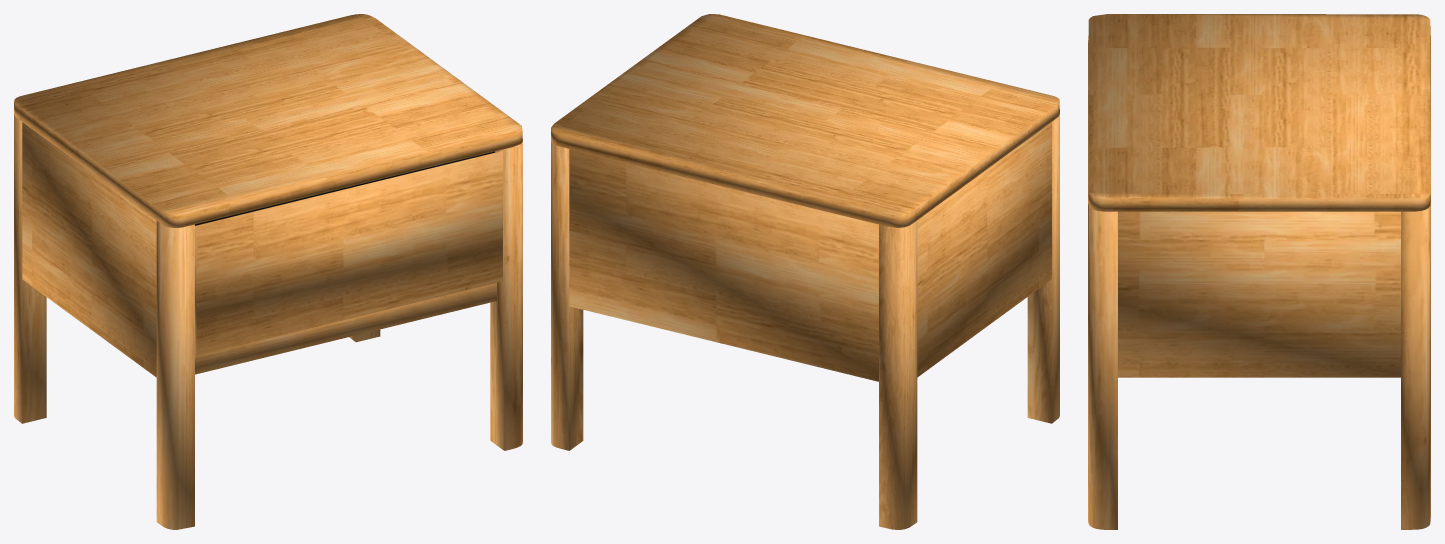
Rendered from abo-B07K7K7GTZ.glb.
The picture shows the model from 3 angles, left to right: view 1: azimuth 30°, elevation 25°; view 2: azimuth 150°, elevation 25°; view 3: azimuth 270°, elevation 25°; orthographic projection. The views are drawn at different scales.
Parts seen in each view (by area): view 1: B07K7K7GTZ; view 2: B07K7K7GTZ; view 3: B07K7K7GTZ.
Part boxes in pixels (box(x1,y1,x2,y2)): B07K7K7GTZ: box(14, 14, 522, 529); B07K7K7GTZ: box(551, 14, 1059, 529); B07K7K7GTZ: box(1088, 14, 1430, 529).
Size of the model in its own units: 0.5598 by 0.4699 by 0.4399.
1 material, 1 textured.
